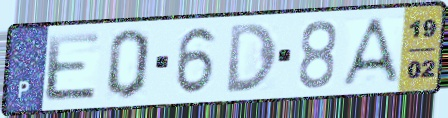0: (103, 26, 153, 102)
6: (174, 25, 218, 96)
8: (296, 17, 339, 90)
A: (338, 15, 403, 89)
D: (225, 20, 280, 95)
E: (44, 29, 104, 104)
